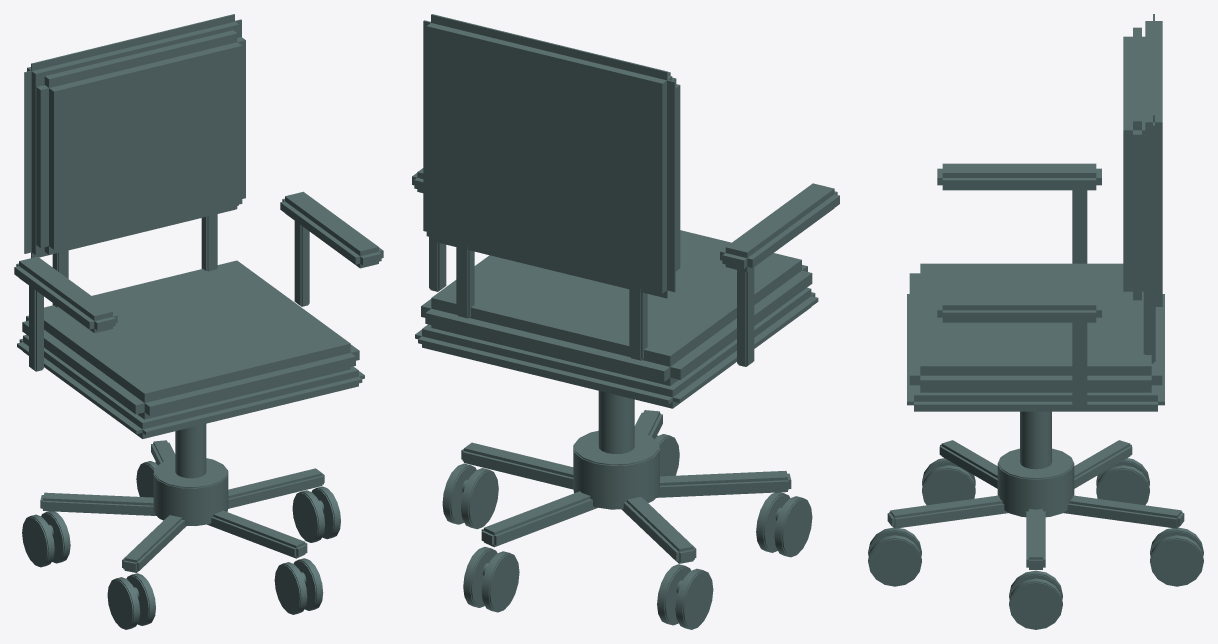
Rendered from OBJ-039_SillaUsada.fbx.
3 views of the same model, side by side, from view 1: azimuth 30°, elevation 25°; view 2: azimuth 150°, elevation 25°; view 3: azimuth 270°, elevation 25° (orthographic). The views are drawn at different scales.
Visible parts, largest first — view 1: GEO-OBJ-039_SillaUsada.004; view 2: GEO-OBJ-039_SillaUsada.004; view 3: GEO-OBJ-039_SillaUsada.004.
Boxes of the visible parts, left/top/right/bottom form: GEO-OBJ-039_SillaUsada.004: left=14, top=14, right=383, bottom=629; GEO-OBJ-039_SillaUsada.004: left=412, top=14, right=839, bottom=629; GEO-OBJ-039_SillaUsada.004: left=868, top=14, right=1203, bottom=629.
Size of the model in its own units: 0.63 by 1 by 0.6116.
